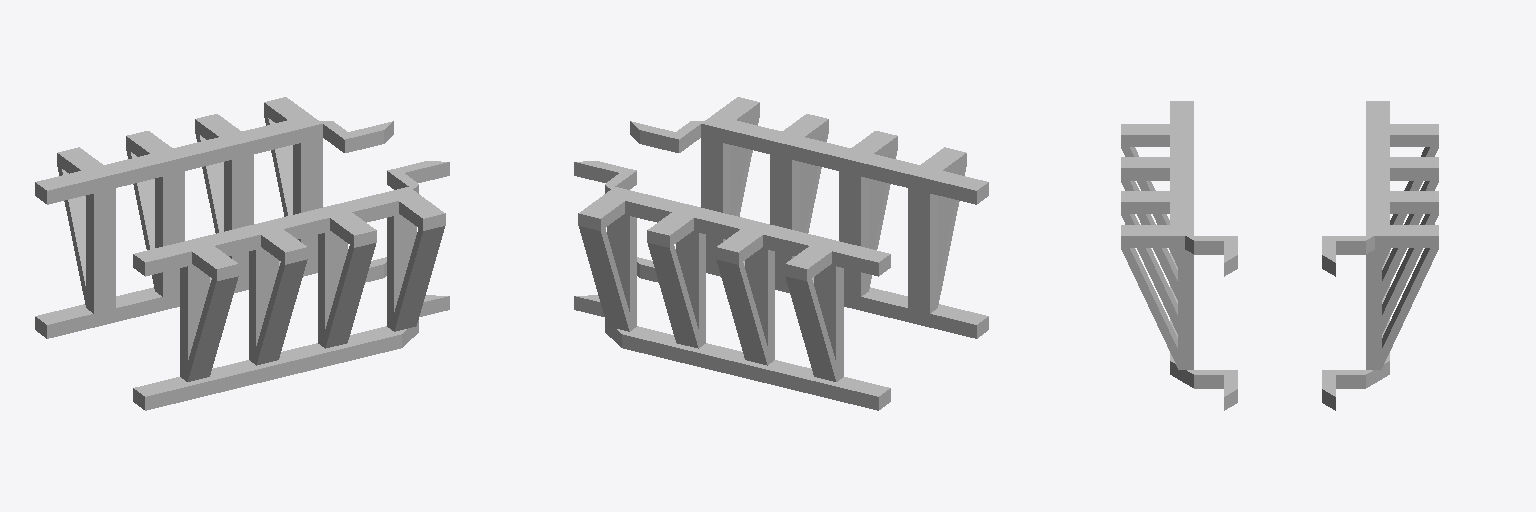
The model's file is arms.obj.
The picture shows the model from 3 angles: view 1: azimuth 30°, elevation 25°; view 2: azimuth 150°, elevation 25°; view 3: azimuth 270°, elevation 25°; orthographic projection.
Visible parts, largest first — view 1: Mesh26 Group11 Group1 Model, Mesh9 Group5 Group1 Model, Mesh1 Group2 Group1 Model, Mesh6 Group4 Group1 Model, Mesh14 Group7 Group1 Model, Mesh3 Group3 Group1 Model, Mesh11 Group6 Group1 Model, Mesh20 Group9 Group1 Model, Mesh23 Group10 Group1 Model, Mesh17 Group8 Group1 Model, Mesh30 Group13 Group1 Model, Mesh28 Group12 Group1 Model; view 2: Mesh1 Group2 Group1 Model, Mesh28 Group12 Group1 Model, Mesh26 Group11 Group1 Model, Mesh30 Group13 Group1 Model, Mesh20 Group9 Group1 Model, Mesh17 Group8 Group1 Model, Mesh23 Group10 Group1 Model, Mesh14 Group7 Group1 Model, Mesh11 Group6 Group1 Model, Mesh3 Group3 Group1 Model, Mesh6 Group4 Group1 Model, Mesh9 Group5 Group1 Model; view 3: Mesh6 Group4 Group1 Model, Mesh30 Group13 Group1 Model, Mesh1 Group2 Group1 Model, Mesh26 Group11 Group1 Model, Mesh17 Group8 Group1 Model, Mesh3 Group3 Group1 Model, Mesh11 Group6 Group1 Model, Mesh23 Group10 Group1 Model, Mesh20 Group9 Group1 Model, Mesh14 Group7 Group1 Model, Mesh9 Group5 Group1 Model, Mesh28 Group12 Group1 Model.
Boxes of the visible parts, x1=… form: Mesh26 Group11 Group1 Model: x1=35, y1=119, x2=393, y2=204; Mesh9 Group5 Group1 Model: x1=133, y1=295, x2=449, y2=410; Mesh1 Group2 Group1 Model: x1=133, y1=161, x2=449, y2=276; Mesh6 Group4 Group1 Model: x1=387, y1=187, x2=445, y2=331; Mesh14 Group7 Group1 Model: x1=180, y1=239, x2=238, y2=381; Mesh3 Group3 Group1 Model: x1=318, y1=205, x2=376, y2=348; Mesh11 Group6 Group1 Model: x1=249, y1=224, x2=307, y2=365; Mesh20 Group9 Group1 Model: x1=57, y1=147, x2=115, y2=313; Mesh23 Group10 Group1 Model: x1=126, y1=131, x2=184, y2=296; Mesh17 Group8 Group1 Model: x1=195, y1=114, x2=253, y2=277; Mesh30 Group13 Group1 Model: x1=264, y1=97, x2=322, y2=261; Mesh28 Group12 Group1 Model: x1=35, y1=257, x2=386, y2=338; Mesh1 Group2 Group1 Model: x1=630, y1=119, x2=988, y2=204; Mesh28 Group12 Group1 Model: x1=574, y1=295, x2=890, y2=410; Mesh26 Group11 Group1 Model: x1=574, y1=161, x2=890, y2=276; Mesh30 Group13 Group1 Model: x1=578, y1=187, x2=636, y2=331; Mesh20 Group9 Group1 Model: x1=785, y1=237, x2=843, y2=381; Mesh17 Group8 Group1 Model: x1=647, y1=204, x2=705, y2=348; Mesh23 Group10 Group1 Model: x1=716, y1=221, x2=774, y2=365; Mesh14 Group7 Group1 Model: x1=908, y1=147, x2=966, y2=313; Mesh11 Group6 Group1 Model: x1=839, y1=131, x2=897, y2=296; Mesh3 Group3 Group1 Model: x1=770, y1=114, x2=828, y2=277; Mesh6 Group4 Group1 Model: x1=701, y1=97, x2=759, y2=261; Mesh9 Group5 Group1 Model: x1=637, y1=257, x2=988, y2=338; Mesh6 Group4 Group1 Model: x1=1121, y1=225, x2=1193, y2=369; Mesh30 Group13 Group1 Model: x1=1366, y1=225, x2=1438, y2=369; Mesh1 Group2 Group1 Model: x1=1170, y1=101, x2=1237, y2=276; Mesh26 Group11 Group1 Model: x1=1322, y1=101, x2=1389, y2=276; Mesh17 Group8 Group1 Model: x1=1366, y1=191, x2=1438, y2=333; Mesh3 Group3 Group1 Model: x1=1121, y1=191, x2=1193, y2=333; Mesh11 Group6 Group1 Model: x1=1121, y1=157, x2=1193, y2=299; Mesh23 Group10 Group1 Model: x1=1366, y1=157, x2=1438, y2=299; Mesh20 Group9 Group1 Model: x1=1366, y1=124, x2=1438, y2=266; Mesh14 Group7 Group1 Model: x1=1121, y1=124, x2=1193, y2=266; Mesh9 Group5 Group1 Model: x1=1170, y1=252, x2=1237, y2=410; Mesh28 Group12 Group1 Model: x1=1322, y1=252, x2=1389, y2=410.
Size of the model in its own units: 2064 by 881 by 1719.